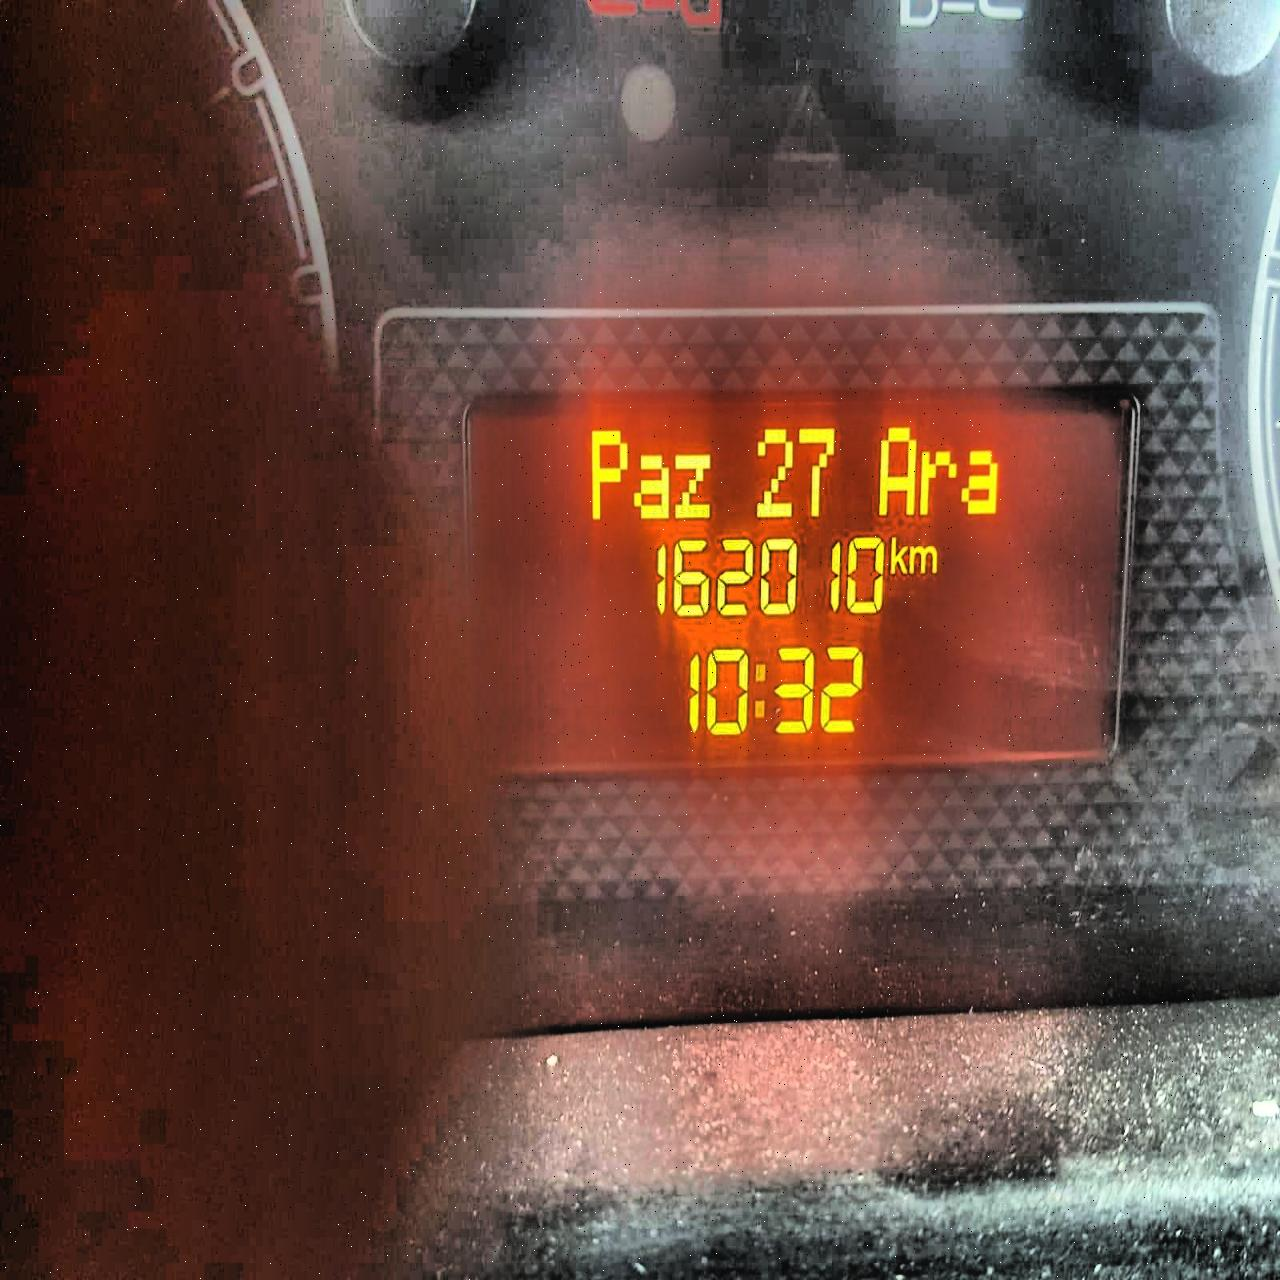0: (703, 646, 750, 741), (844, 532, 883, 618), (757, 536, 799, 613)
1: (654, 535, 670, 619), (686, 646, 701, 736), (826, 535, 842, 618)
2: (751, 418, 797, 523), (821, 640, 863, 734), (715, 531, 754, 617)
3: (775, 642, 817, 736)
6: (674, 533, 712, 619)
7: (795, 421, 840, 523)
X: (587, 424, 632, 520), (874, 423, 919, 518), (959, 443, 1005, 520), (915, 441, 959, 517), (672, 448, 715, 520), (628, 450, 669, 519), (748, 655, 771, 722), (908, 542, 939, 579), (886, 532, 907, 578)
odometer: (464, 393, 1126, 761)
